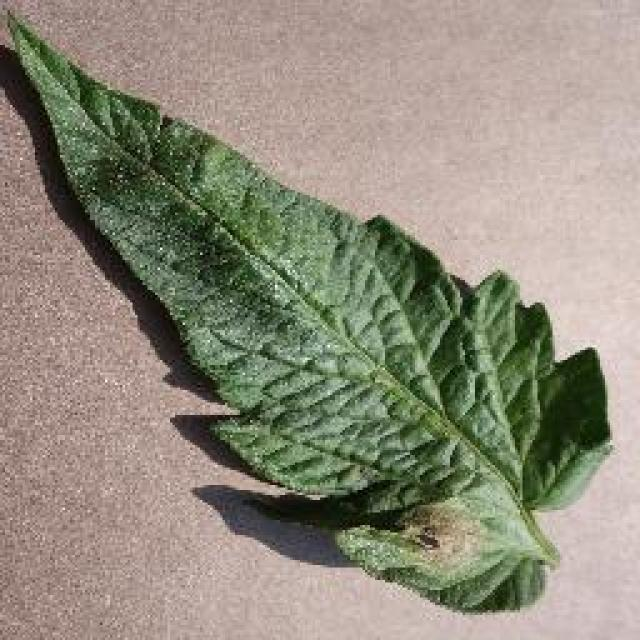Tomato Late Blight: (78, 81, 587, 592)
